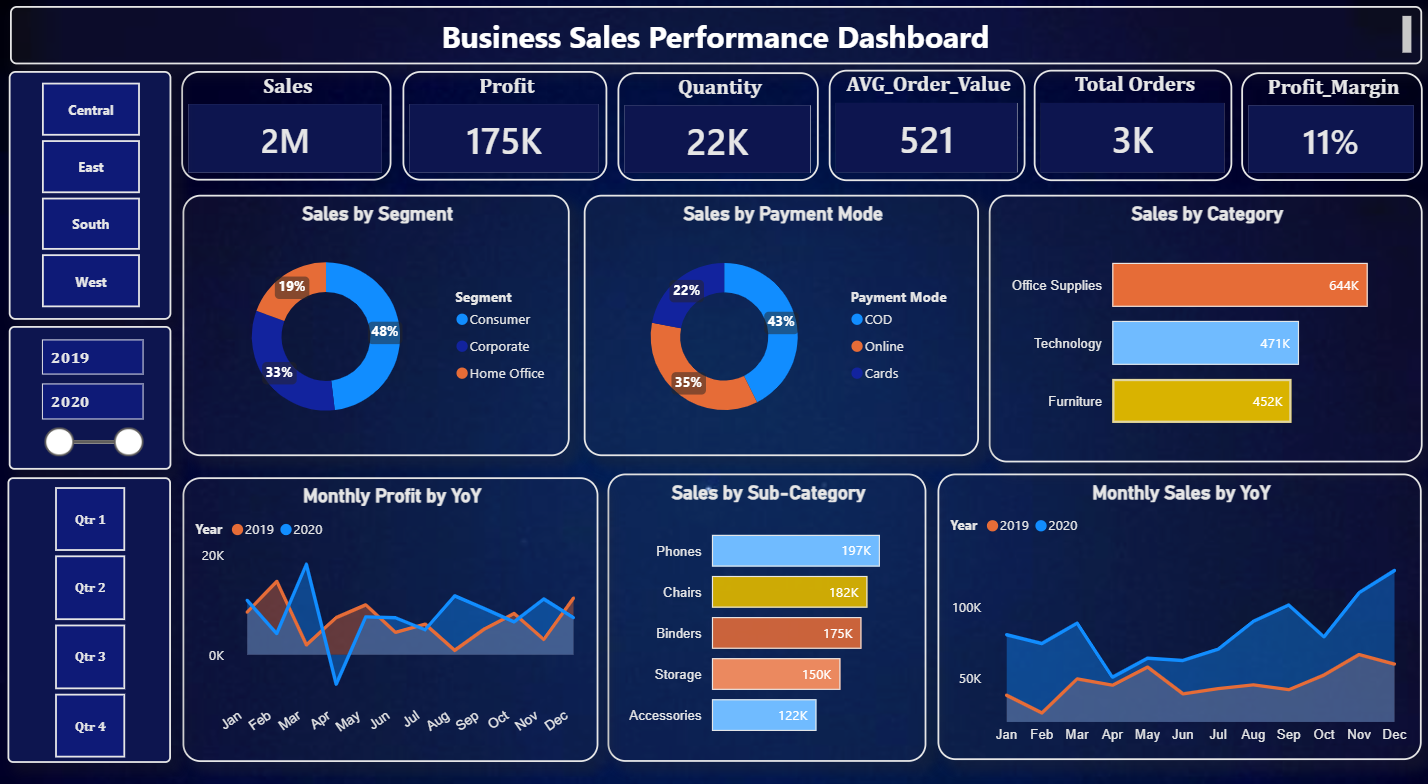

Layout of this report page (visuals, bound fields, positions):
{"tool":"powerbi","page":{"name":"Main Dashboard","canvas":[1280,720],"ordinal":0},"visuals":[{"type":"clusteredBarChart","title":"Sales by Category","fields":{"Category":["Sheet1.Category"],"Y":["Sum(Sheet1.Sales)"]},"box":[880.5,177,386.3,238.2],"z":0},{"type":"clusteredBarChart","title":"Sales by Sub-Category","fields":{"Category":["Sheet1.Sub-Category"],"Y":["Sum(Sheet1.Sales)"]},"box":[541,425.2,283.9,257.1],"z":1000},{"type":"areaChart","title":"Monthly Sales by YoY","fields":{"Y":["Sum(Sheet1.Sales)"],"Series":["Sheet1.Order Date.Variation.Date Hierarchy.Year"],"Category":["Sheet1.Month"]},"box":[834.8,425,431.5,255.4],"z":2000},{"type":"areaChart","title":"Monthly Profit by YoY","fields":{"Series":["Sheet1.Order Date.Variation.Date Hierarchy.Year"],"Category":["Sheet1.Month"],"Y":["Sum(Sheet1.Profit)"]},"box":[162.5,428.6,370.7,253.8],"z":3000},{"type":"donutChart","title":"Sales by Segment","fields":{"Y":["Sum(Sheet1.Sales)"],"Category":["Sheet1.Segment"]},"box":[163,177.2,344.6,232.6],"z":4000},{"type":"donutChart","title":"Sales by Payment Mode","fields":{"Y":["Sum(Sheet1.Sales)"],"Category":["Sheet1.Payment Mode"]},"box":[519.6,177.2,352.2,232.6],"z":5000},{"type":"textbox","box":[8.7,8.7,1257.6,52.2],"z":6000},{"type":"cardVisual","title":"AVG_Order_Value","fields":{"Data":["Sheet1.Avg_Order_Value"]},"box":[738,65.2,175,98.9],"z":7000},{"type":"cardVisual","title":"Profit","fields":{"Data":["Sum(Sheet1.Profit)"]},"box":[358.7,66.3,182.6,97.8],"z":8000},{"type":"cardVisual","title":"Sales","fields":{"Data":["Sum(Sheet1.Sales)"]},"box":[162,66.3,187,97.8],"z":9000},{"type":"cardVisual","title":"Total Orders","fields":{"Data":["Count(Sheet1.Order ID)"]},"box":[920.7,65.2,177.2,98.9],"z":10000},{"type":"slicer","fields":{"Values":["Sheet1.Region"]},"box":[8.2,66.4,144.5,221.8],"z":11000},{"type":"slicer","fields":{"Values":["Sheet1.Order Date.Variation.Date Hierarchy.Year"]},"box":[7.6,293.5,144.6,128.3],"z":12000},{"type":"cardVisual","title":"Quantity","fields":{"Data":["Sum(Sheet1.Quantity)"]},"box":[550,67.4,179.3,96.7],"z":13000},{"type":"cardVisual","title":"Profit_Margin","fields":{"Data":["Sheet1.Profit Margin %"]},"box":[1105.4,67.9,161.4,96.8],"z":14000},{"type":"slicer","fields":{"Values":["Sheet1.Order Date.Variation.Date Hierarchy.Quarter"]},"box":[6.5,428.3,145.7,254.3],"z":15000},{"type":"shape","box":[1116,15.7,123.1,37.4],"z":16000},{"type":"image","box":[0,15.6,111.3,37.8],"z":17000}]}

Visuals, with their boxes in screenshot pixels (x1, y1, x2, y2), scaled from the page's 1280x720 canvas onto the 1428x784 screenshot:
"Sales by Category" clusteredBarChart: [982, 193, 1413, 452]
"Sales by Sub-Category" clusteredBarChart: [604, 463, 920, 743]
"Monthly Sales by YoY" areaChart: [931, 463, 1413, 741]
"Monthly Profit by YoY" areaChart: [181, 467, 595, 743]
"Sales by Segment" donutChart: [182, 193, 566, 446]
"Sales by Payment Mode" donutChart: [580, 193, 973, 446]
textbox: [10, 9, 1413, 66]
"AVG_Order_Value" cardVisual: [823, 71, 1019, 179]
"Profit" cardVisual: [400, 72, 604, 179]
"Sales" cardVisual: [181, 72, 389, 179]
"Total Orders" cardVisual: [1027, 71, 1225, 179]
slicer - Sheet1.Region: [9, 72, 170, 314]
slicer - Sheet1.Order Date.Variation.Date Hierarchy.Year: [8, 320, 170, 459]
"Quantity" cardVisual: [614, 73, 814, 179]
"Profit_Margin" cardVisual: [1233, 74, 1413, 179]
slicer - Sheet1.Order Date.Variation.Date Hierarchy.Quarter: [7, 466, 170, 743]
shape: [1245, 17, 1382, 58]
image: [0, 17, 124, 58]
